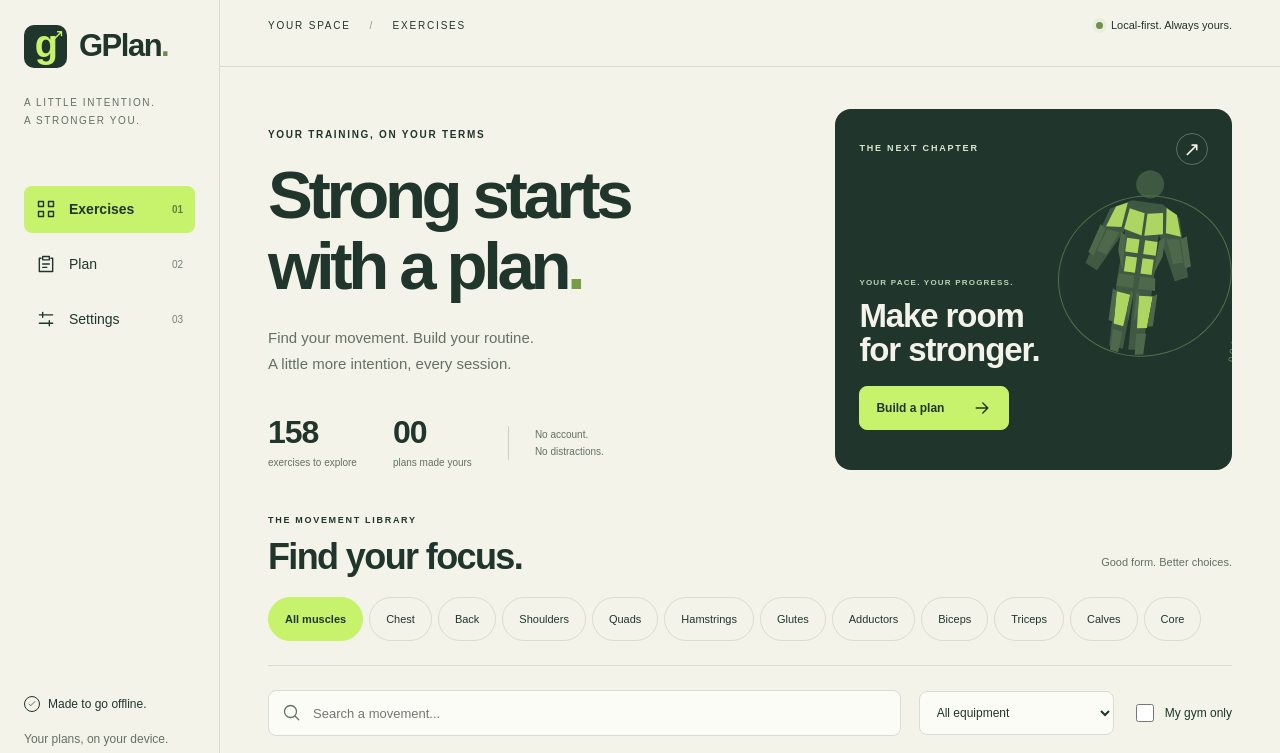
Test case: GPlan screen workflows › rejects invalid Gemini model identifiers before saving preferences
Click the button "Settings 03".
click(110, 319)  # box top-left (24, 296), bottom-right (195, 342)
(page scrolled)
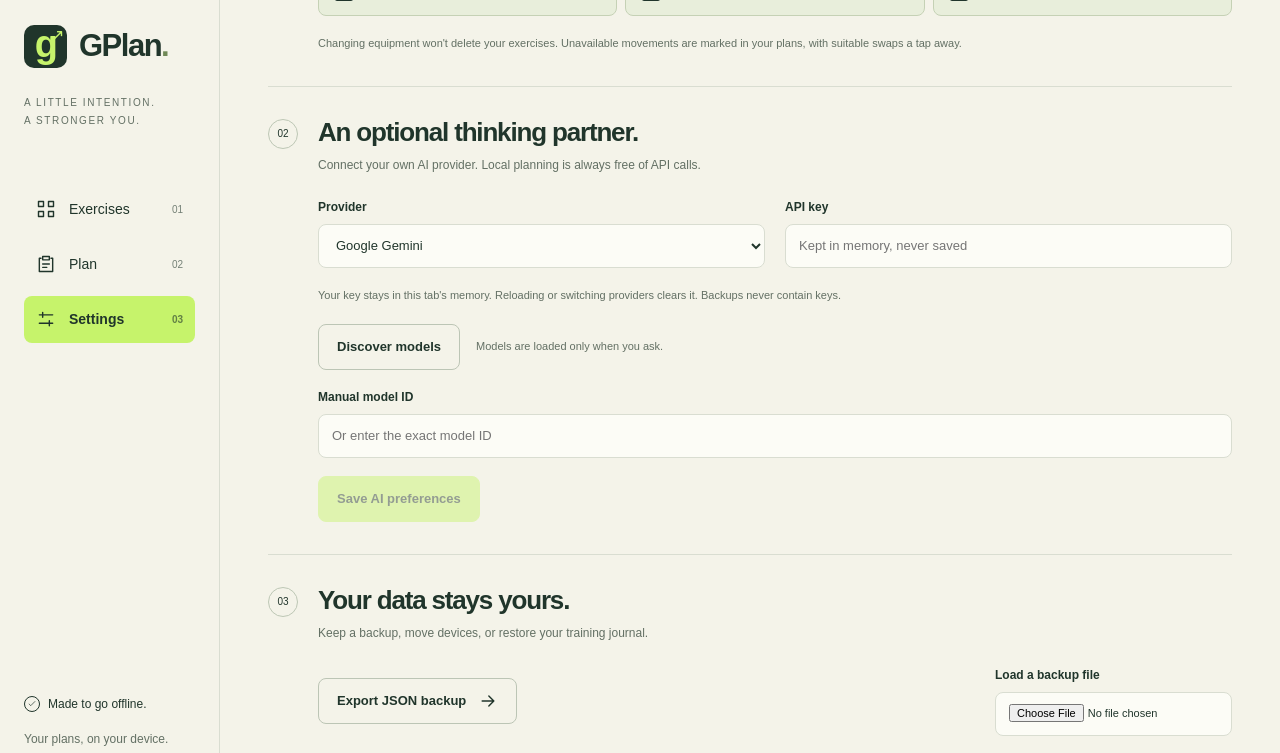
Type "../../wrong model" into the field labelled "Manual model ID".
click(775, 436); type("../../wrong model")  # box top-left (318, 414), bottom-right (1232, 458)
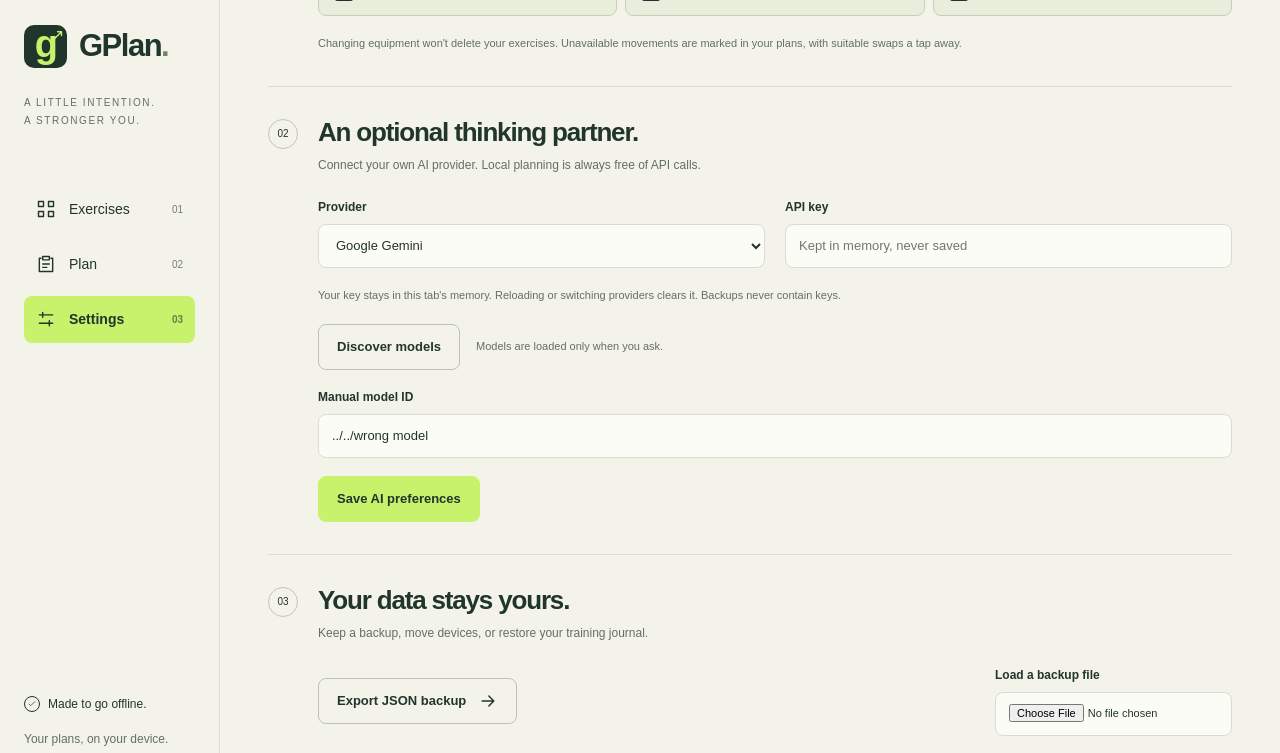
Click the button "Save AI preferences".
click(399, 499)  # box top-left (318, 476), bottom-right (480, 522)
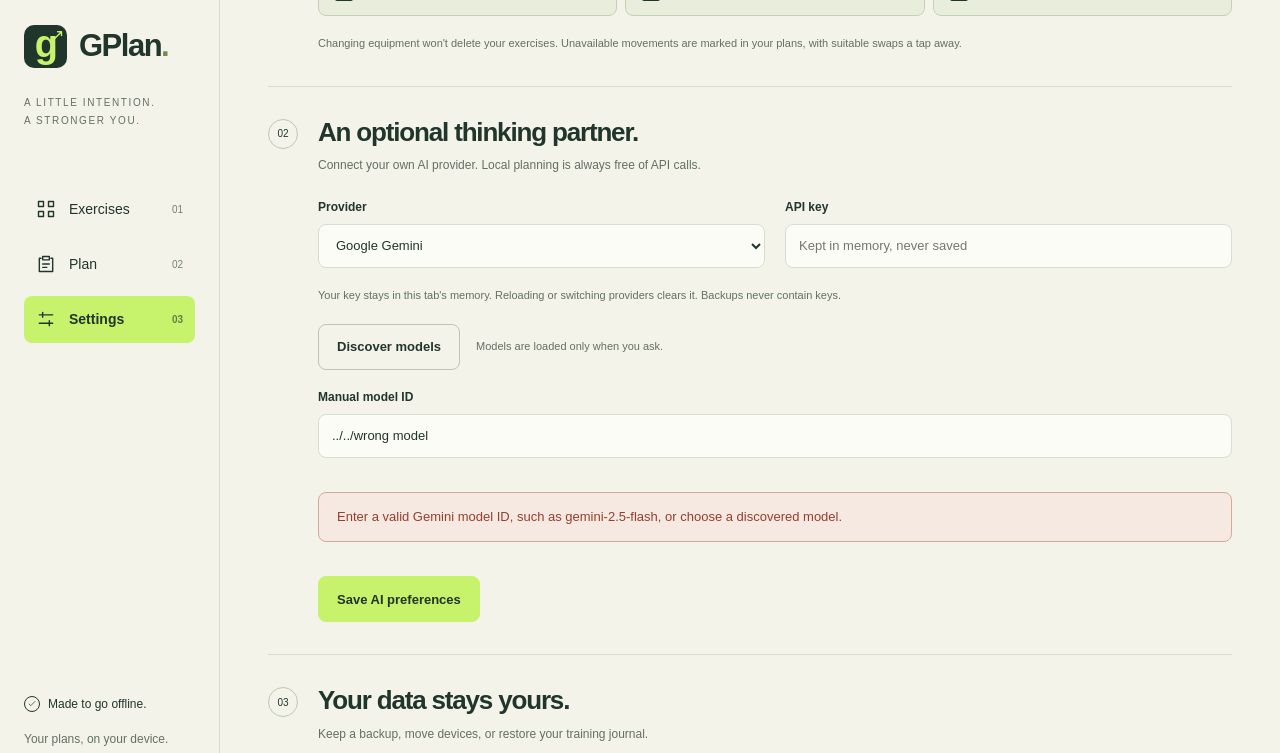
Expected: the message is shown, top-left (318, 492), bottom-right (1232, 542)
